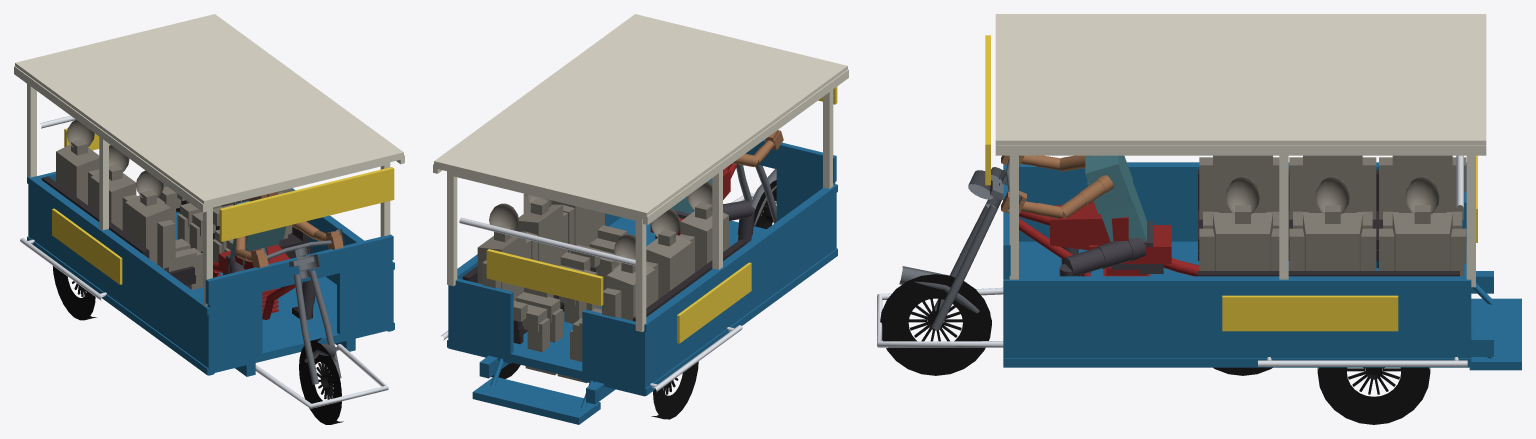
File: motorela.glb
3 views of the same model, side by side, from view 1: azimuth 30°, elevation 25°; view 2: azimuth 150°, elevation 25°; view 3: azimuth 270°, elevation 25° (orthographic). The views are drawn at different scales.
Parts seen in each view (by area): view 1: Roof, Cab, Signage, Passenger_R0, Spin (×2), Fork, Passenger_R2, Chrome, Passenger_R1, Benches, Passenger_L1, Bike (+4 smaller); view 2: Roof, Cab, Signage, Passenger_L2, Passenger_L1, Passenger_R2, Passenger_R1, Passenger_L0, Passenger_R0, Chrome, Spin (×2), Benches (+3 smaller); view 3: Roof, Cab, Spin (×2), Signage, Passenger_L2, Passenger_L1, Passenger_L0, Bike, Passenger_R1, Passenger_R2, Passenger_R0, Fork (+6 smaller).
Part boxes in pixels (left/top/right/bottom): Roof: left=14, top=14, right=404, bottom=306; Cab: left=27, top=171, right=394, bottom=376; Signage: left=52, top=128, right=394, bottom=284; Passenger_R0: left=125, top=170, right=202, bottom=289; Spin (×2): left=53, top=266, right=343, bottom=424; Fork: left=261, top=229, right=344, bottom=384; Passenger_R2: left=56, top=120, right=99, bottom=206; Chrome: left=20, top=115, right=388, bottom=408; Passenger_R1: left=90, top=145, right=137, bottom=232; Benches: left=42, top=176, right=310, bottom=285; Passenger_L1: left=177, top=200, right=241, bottom=253; Bike: left=213, top=244, right=295, bottom=319; Roof: left=433, top=14, right=848, bottom=332; Cab: left=447, top=140, right=837, bottom=424; Signage: left=486, top=87, right=837, bottom=343; Passenger_L2: left=477, top=203, right=562, bottom=375; Passenger_L1: left=515, top=194, right=599, bottom=323; Passenger_R2: left=557, top=234, right=655, bottom=382; Passenger_R1: left=646, top=208, right=692, bottom=301; Passenger_L0: left=552, top=201, right=627, bottom=290; Passenger_R0: left=679, top=181, right=728, bottom=274; Chrome: left=441, top=192, right=776, bottom=392; Spin (×2): left=651, top=180, right=776, bottom=419; Benches: left=462, top=239, right=746, bottom=344; Roof: left=995, top=14, right=1486, bottom=287; Cab: left=1003, top=162, right=1521, bottom=370; Spin (×2): left=880, top=274, right=1430, bottom=424; Signage: left=985, top=35, right=1477, bottom=331; Passenger_L2: left=1379, top=176, right=1466, bottom=276; Passenger_L1: left=1289, top=176, right=1376, bottom=270; Passenger_L0: left=1199, top=176, right=1279, bottom=270; Bike: left=1002, top=201, right=1199, bottom=276; Passenger_R1: left=1289, top=155, right=1376, bottom=228; Passenger_R2: left=1379, top=155, right=1466, bottom=228; Passenger_R0: left=1199, top=155, right=1279, bottom=228; Fork: left=899, top=155, right=1022, bottom=330.
Size of the model in its own units: 1.64 by 1.73 by 3.44.
